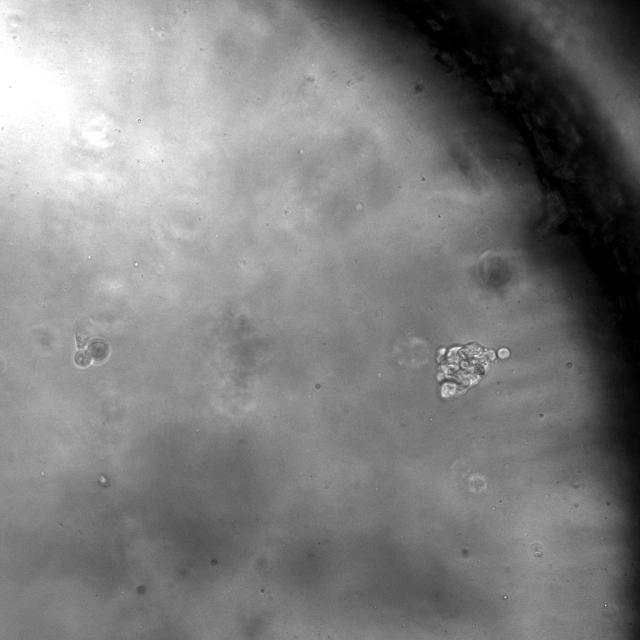organoid: (436, 343, 510, 398), (477, 250, 512, 291), (74, 339, 110, 368)
